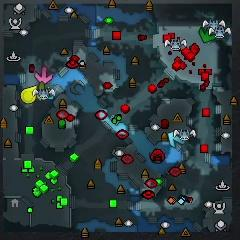p4: (21, 86, 38, 105)
x1: (35, 66, 54, 84)
x2: (35, 81, 50, 97)
x3: (168, 130, 184, 147)
x4: (199, 26, 217, 44)
